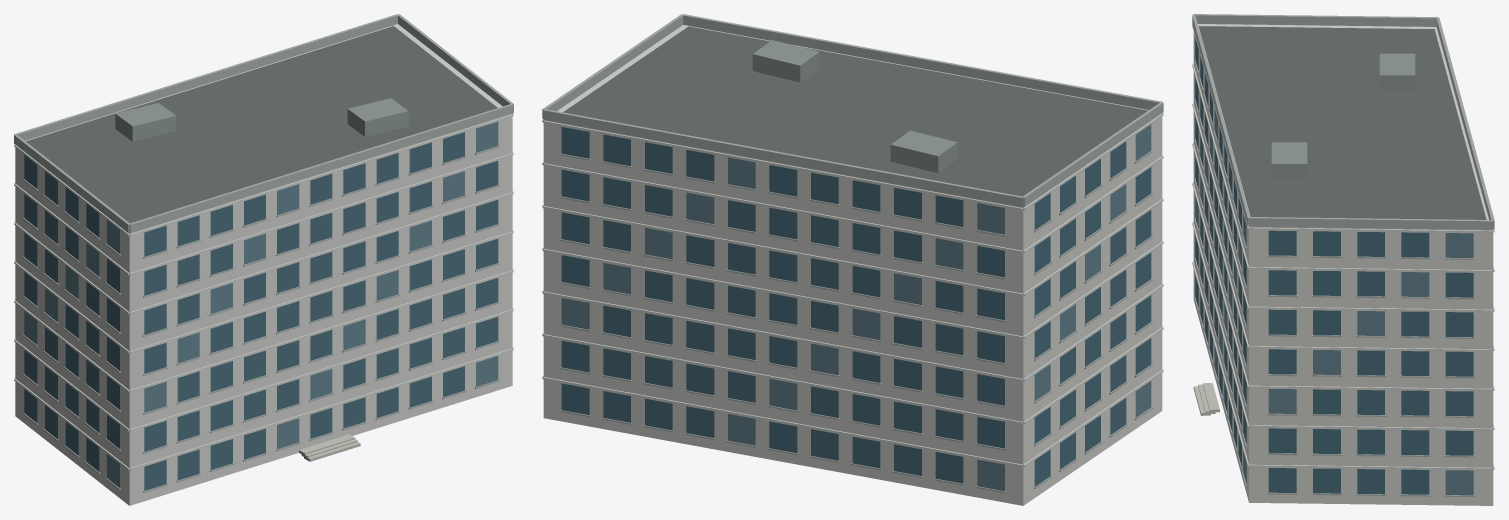
File: 核心区东侧-026.glb
3 renders of one model, left to right at view 1: azimuth 30°, elevation 25°; view 2: azimuth 150°, elevation 25°; view 3: azimuth 270°, elevation 25°, orthographic. The views are drawn at different scales.
Parts seen in each view (by area): view 1: 核心区东侧-026; view 2: 核心区东侧-026; view 3: 核心区东侧-026.
Boxes of the visible parts, <box> form: 核心区东侧-026: <box>14,14,513,505</box>; 核心区东侧-026: <box>542,14,1163,505</box>; 核心区东侧-026: <box>1192,14,1494,505</box>.
Size of the model in its own units: 38.56 by 25.42 by 23.79.
